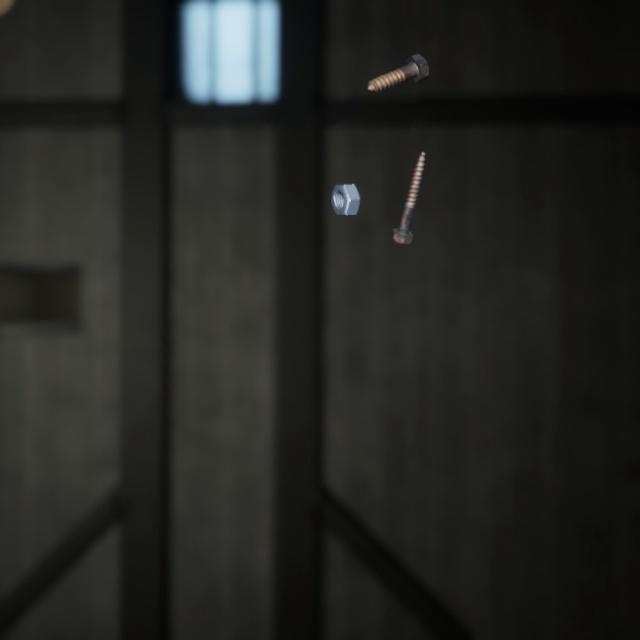bolt: (386, 133, 429, 235), (362, 39, 433, 87)
nut: (327, 165, 366, 205)
